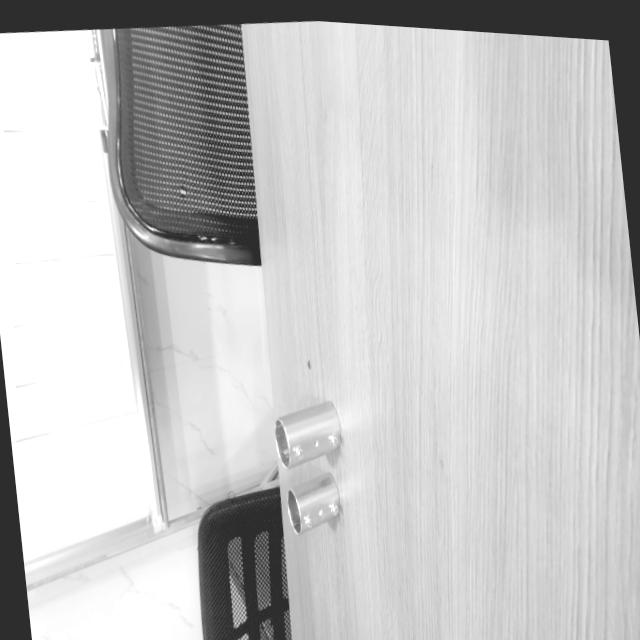Co_Lon: (265, 396, 349, 470)
Co_Nho: (277, 468, 349, 535)
